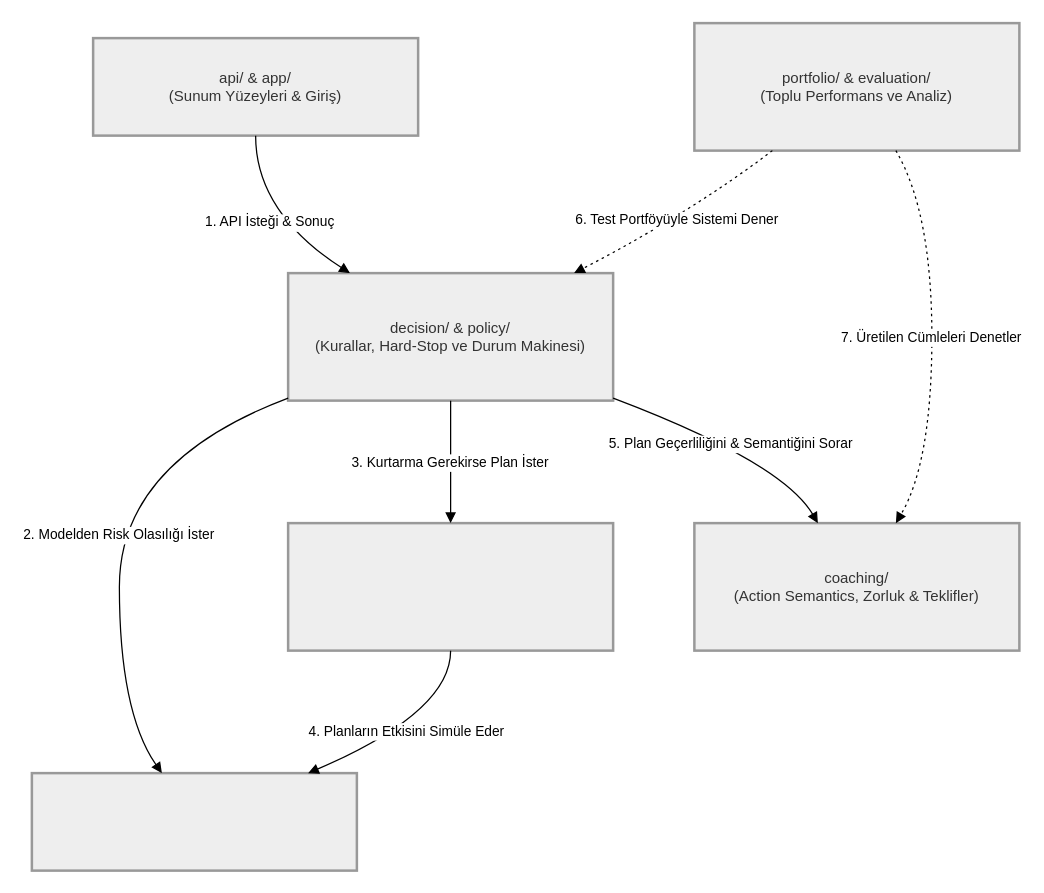
Image size: 1044x893. Some labels were removed from this diagram. The box of each missing label's shape, as (x1, y1, x2, y2) in pixels:
model/ (XGBoost Tahmin ve Kalibrasyon): (30, 771, 358, 871)
recourse/ & causality/ (DiCE ve Alternatif Senaryo Üretimi): (286, 521, 614, 651)
